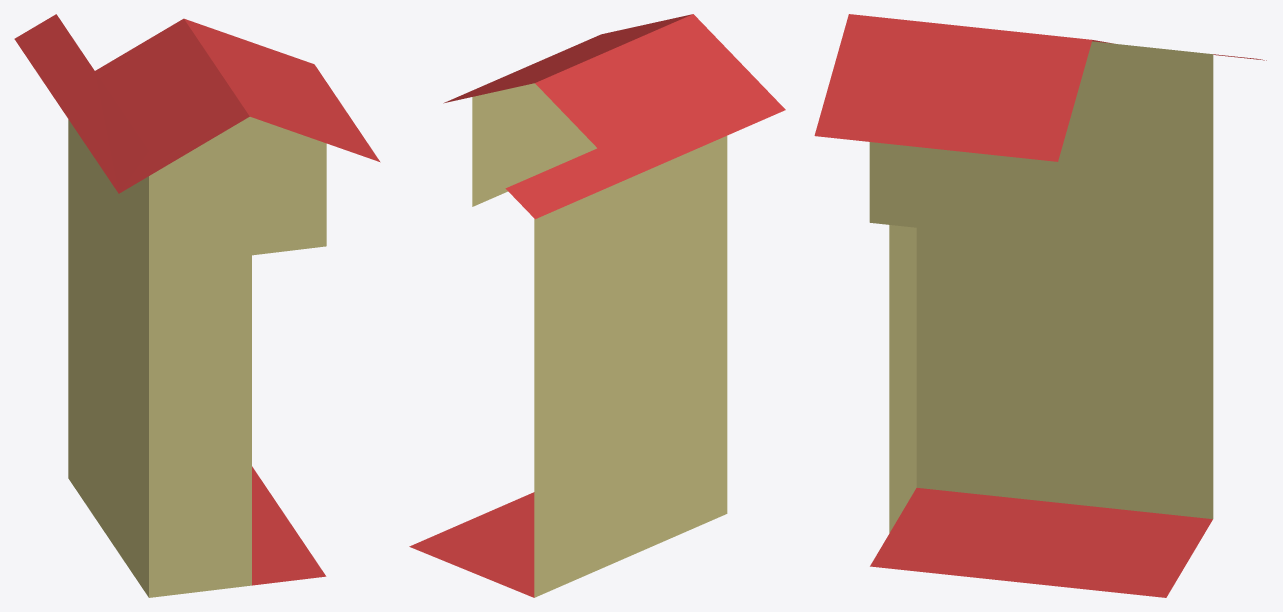
The picture shows the model from 3 angles, left to right: view 1: azimuth 30°, elevation 25°; view 2: azimuth 150°, elevation 25°; view 3: azimuth 270°, elevation 25°; orthographic projection. The views are drawn at different scales.
Size of the model in its own units: 5.52 by 7.46 by 9.22.
